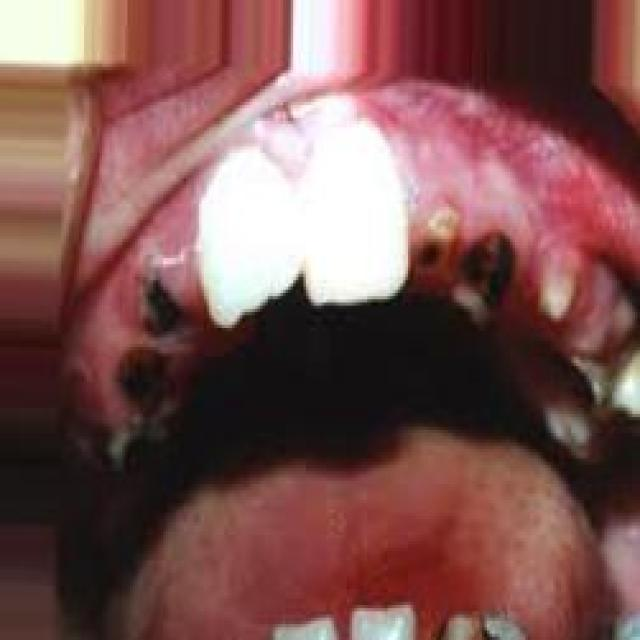caries: (112, 341, 189, 473), (452, 228, 528, 340), (403, 197, 469, 289), (125, 259, 195, 345)
